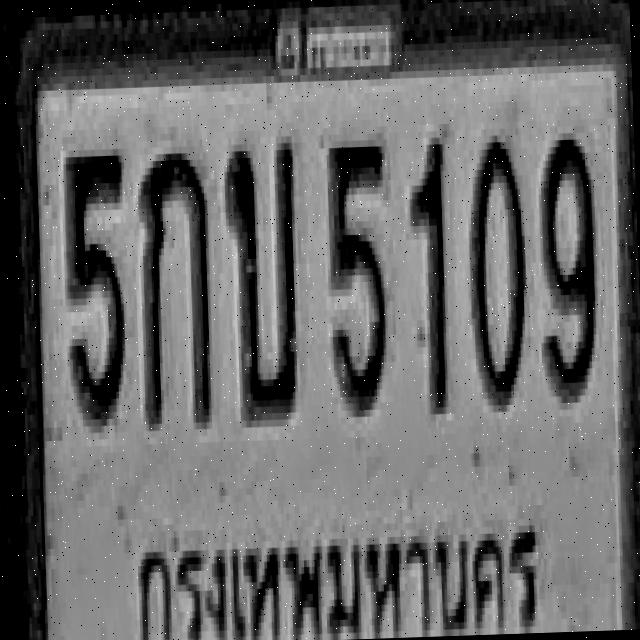0: (465, 134, 530, 406)
1: (407, 134, 454, 410)
10GorGai: (136, 146, 214, 424)
35BorBaiMai: (224, 132, 302, 418)
5: (62, 145, 130, 423), (324, 136, 392, 414)
9: (536, 129, 598, 400)
Bangkok: (128, 492, 544, 640)
